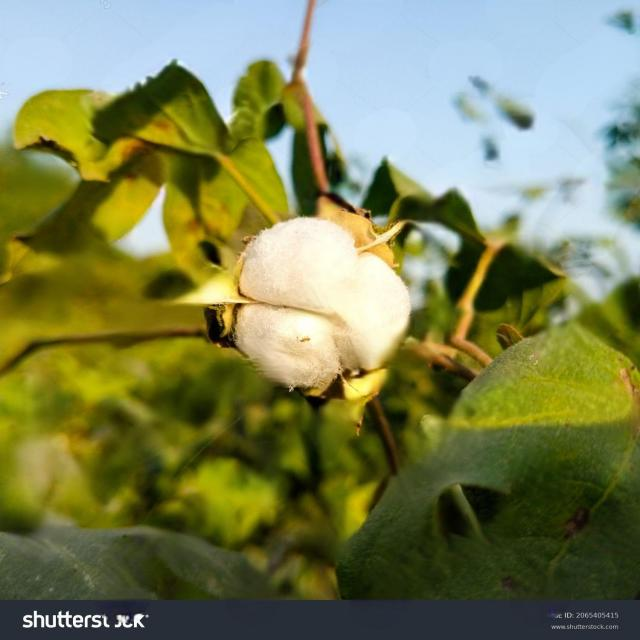Leaf: (184, 195, 431, 415)
